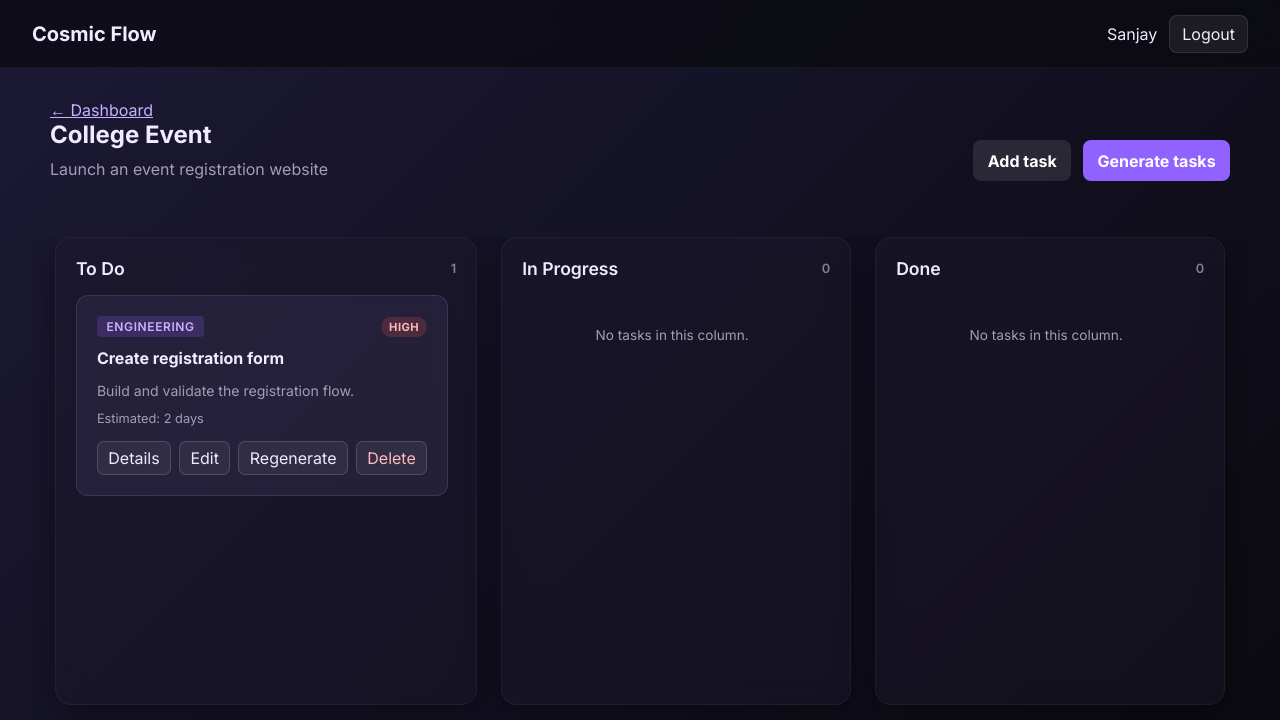
Test: Phase 3 application › persists task editing through the API
Click the button "Edit".
click(205, 458)  # box [179, 441, 230, 475]
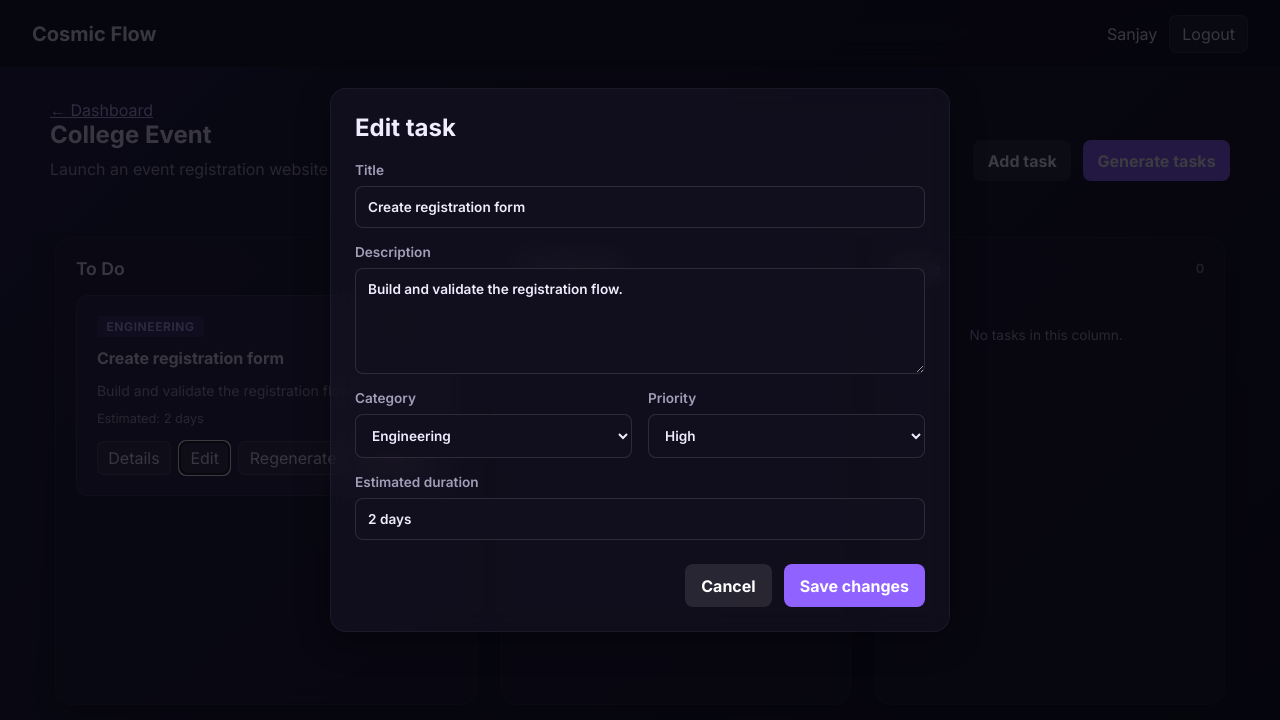
Replace the text in the field labelled "Title" with "Updated task title" at point(640, 207), box [355, 186, 925, 228]
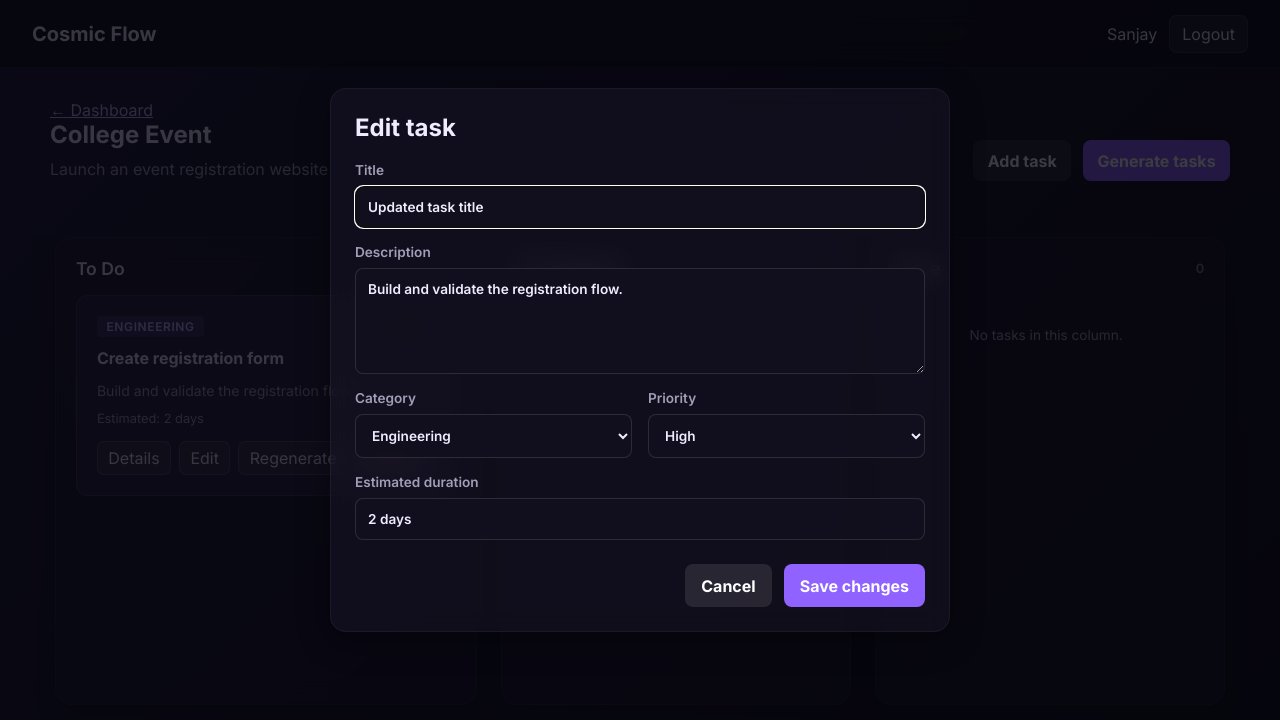
Click the button "Save changes".
click(854, 586)  # box [784, 564, 925, 607]
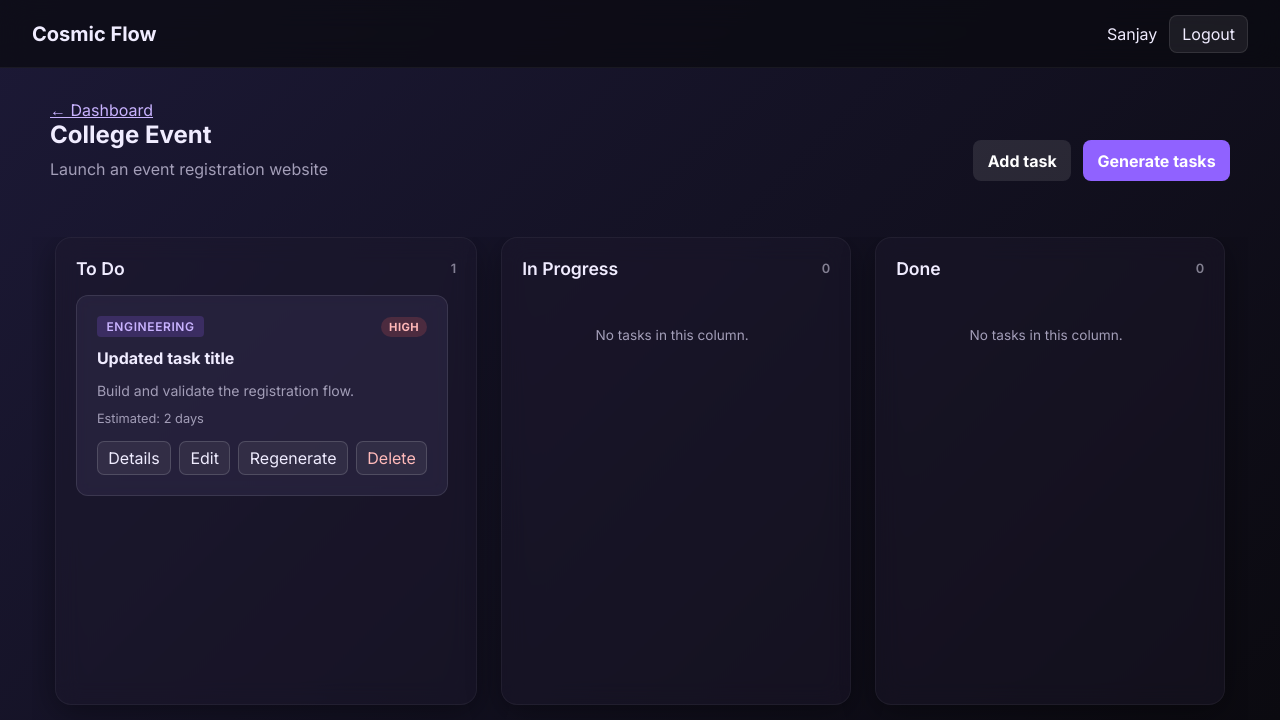
Expected: the heading "Updated task title" is shown, [97, 348, 234, 368]
